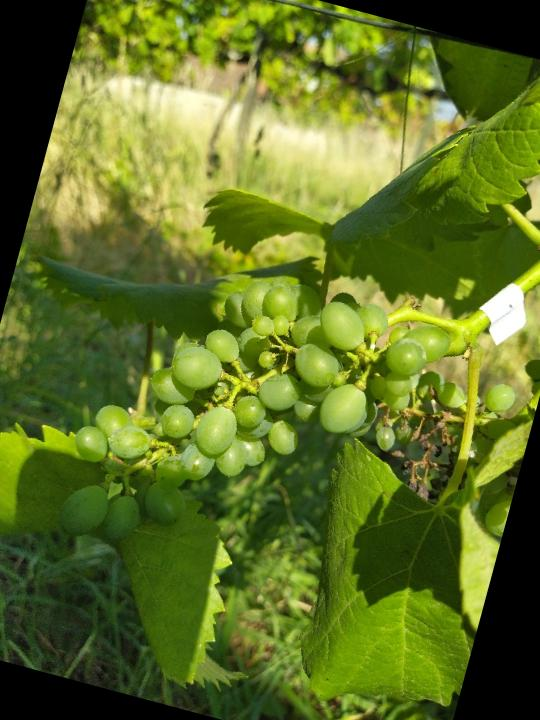grape: (39, 232, 467, 627)
